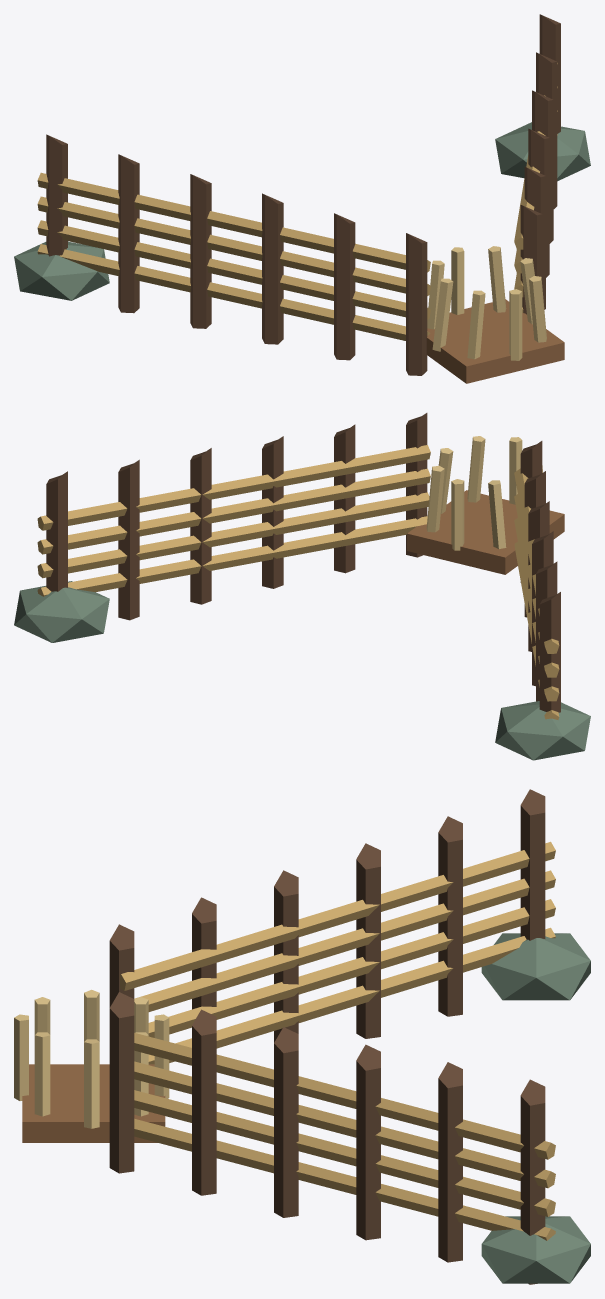
Rendered from river_fish_weir.glb.
3 renders of one model, top to bottom at view 1: azimuth 30°, elevation 25°; view 2: azimuth 150°, elevation 25°; view 3: azimuth 270°, elevation 25°, orthographic. The views are drawn at different scales.
Parts seen in each view (by area): view 1: river_fish_weir; view 2: river_fish_weir; view 3: river_fish_weir.
Part boxes in pixels (left/top/right/bottom): river_fish_weir: left=14, top=14, right=590, bottom=383; river_fish_weir: left=14, top=413, right=590, bottom=760; river_fish_weir: left=14, top=789, right=590, bottom=1284.
Bounding box in the file's own units: 3.73 × 1.04 × 2.74.
